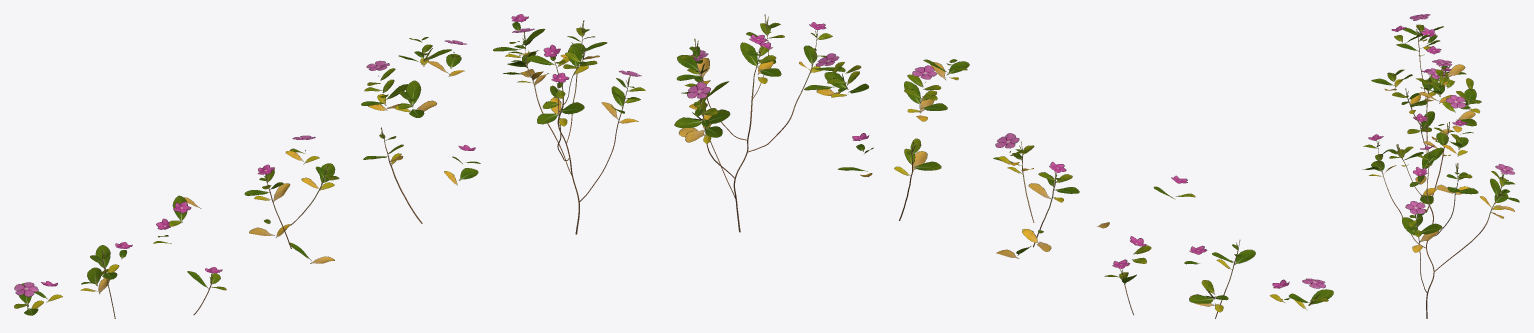
The model's file is ph_periwinkle.glb.
3 views of the same model, side by side, from view 1: azimuth 30°, elevation 25°; view 2: azimuth 150°, elevation 25°; view 3: azimuth 270°, elevation 25° (orthographic). The views are drawn at different scales.
Visible parts, largest first — view 1: periwinkle_plant_01_LOD0, periwinkle_plant_02_LOD0, periwinkle_plant_03_LOD0, periwinkle_plant_05_LOD0, periwinkle_plant_04_LOD0, periwinkle_plant_06_LOD0; view 2: periwinkle_plant_01_LOD0, periwinkle_plant_02_LOD0, periwinkle_plant_03_LOD0, periwinkle_plant_05_LOD0, periwinkle_plant_04_LOD0, periwinkle_plant_06_LOD0; view 3: periwinkle_plant_01_LOD0, periwinkle_plant_02_LOD0, periwinkle_plant_03_LOD0, periwinkle_plant_04_LOD0, periwinkle_plant_06_LOD0, periwinkle_plant_05_LOD0.
Part boxes in pixels (box(x1,y1,x2,y2)): periwinkle_plant_01_LOD0: box(493, 14, 645, 234); periwinkle_plant_02_LOD0: box(361, 37, 480, 223); periwinkle_plant_03_LOD0: box(244, 135, 339, 263); periwinkle_plant_05_LOD0: box(80, 242, 132, 318); periwinkle_plant_04_LOD0: box(153, 195, 226, 314); periwinkle_plant_06_LOD0: box(14, 281, 62, 315); periwinkle_plant_01_LOD0: box(674, 14, 840, 232); periwinkle_plant_02_LOD0: box(804, 53, 969, 220); periwinkle_plant_03_LOD0: box(993, 133, 1079, 258); periwinkle_plant_05_LOD0: box(1184, 240, 1255, 318); periwinkle_plant_04_LOD0: box(1097, 175, 1195, 315); periwinkle_plant_06_LOD0: box(1270, 278, 1333, 310); periwinkle_plant_01_LOD0: box(1362, 119, 1519, 318); periwinkle_plant_02_LOD0: box(1371, 59, 1481, 212); periwinkle_plant_03_LOD0: box(1392, 68, 1452, 184); periwinkle_plant_04_LOD0: box(1391, 25, 1465, 146); periwinkle_plant_06_LOD0: box(1403, 14, 1443, 49); periwinkle_plant_05_LOD0: box(1396, 29, 1466, 98).
Size of the model in its own units: 1.23 by 0.3979 by 0.3133.
Materials: 1 (1 with a texture image).
